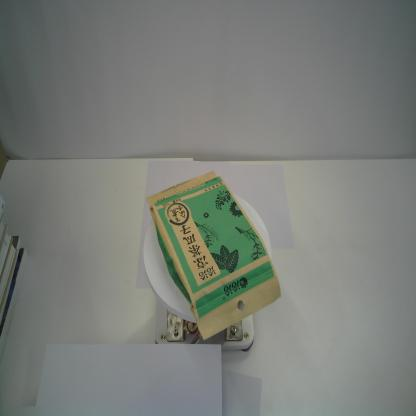Dried Food: (146, 167, 283, 342)
